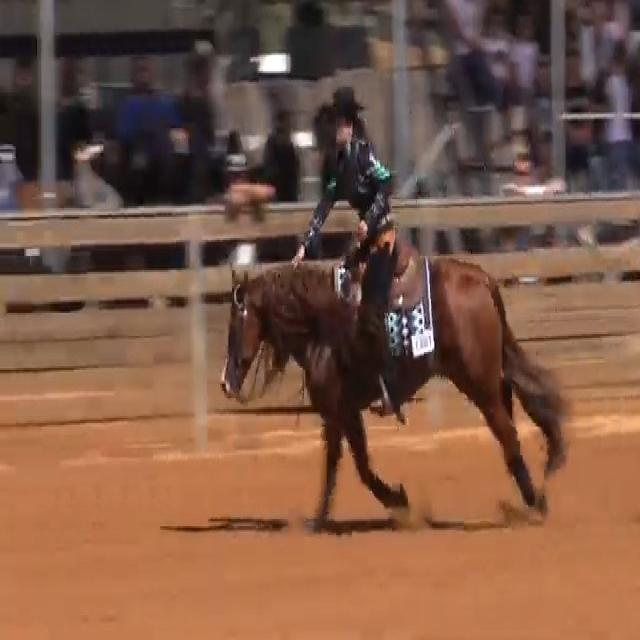horse: (218, 245, 568, 530)
